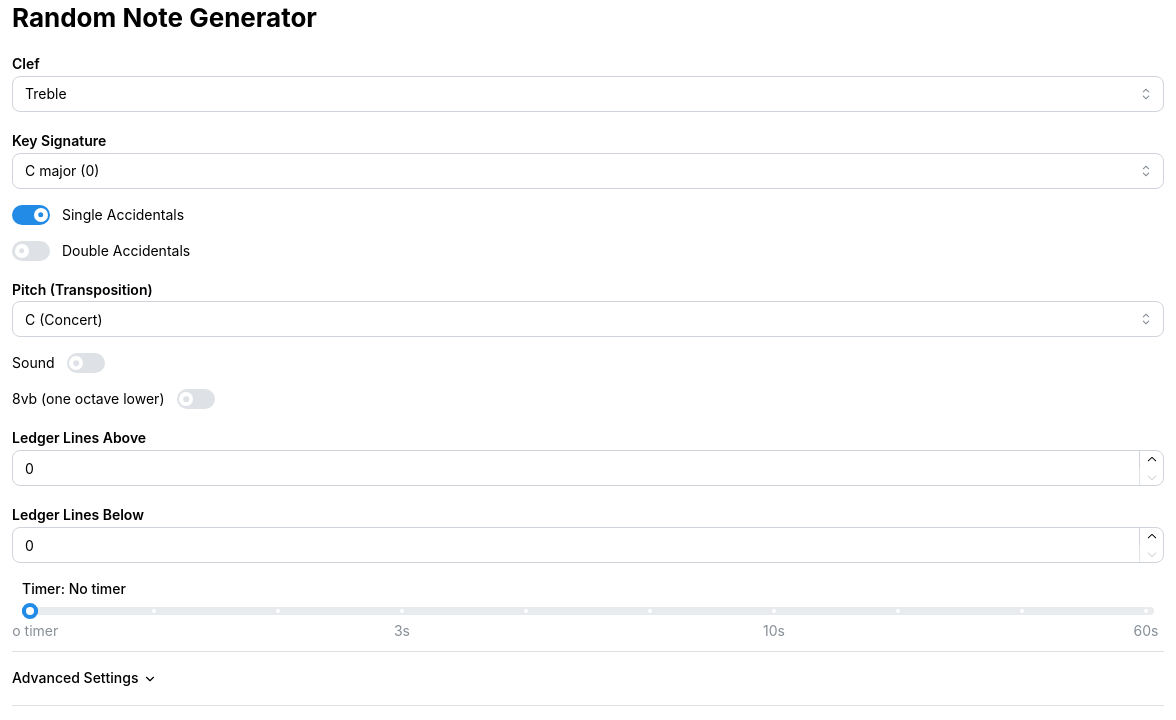
Test: ConfigScreen › Advanced settings › shows accidental chance inputs when Advanced Settings is clicked
Step 1. Click the button "Advanced Settings" → (75, 678), box [12,668,1164,689]
(page scrolled)
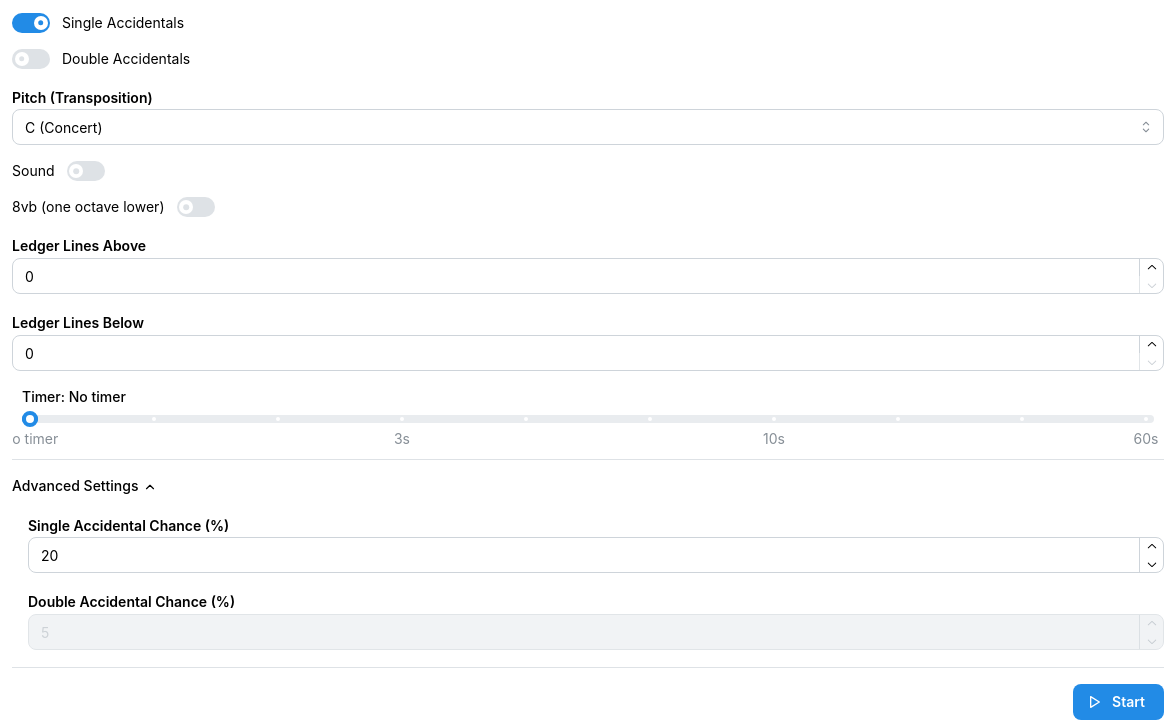
Expected: the text "Single Accidental Chance (%)" is shown, [28,515,229,536]
Expected: the text "Double Accidental Chance (%)" is shown, [28,592,235,613]
